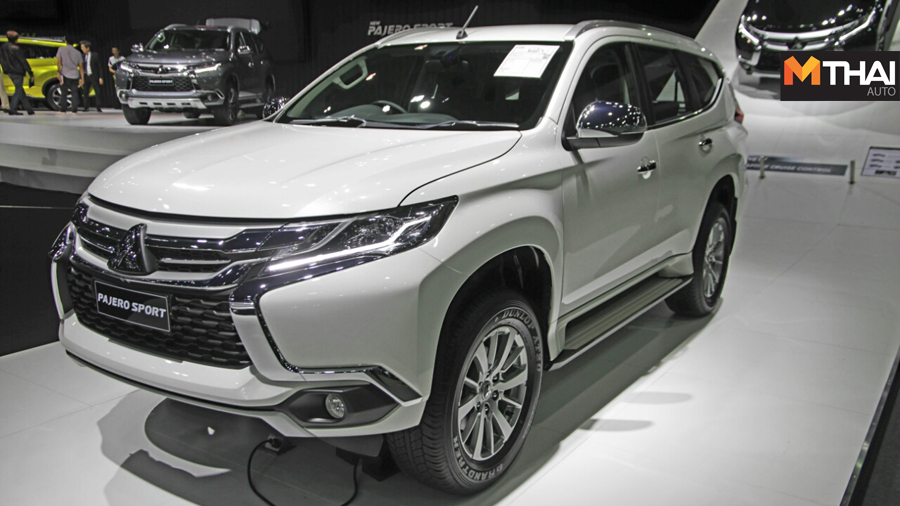pickup: (50, 22, 746, 495)
